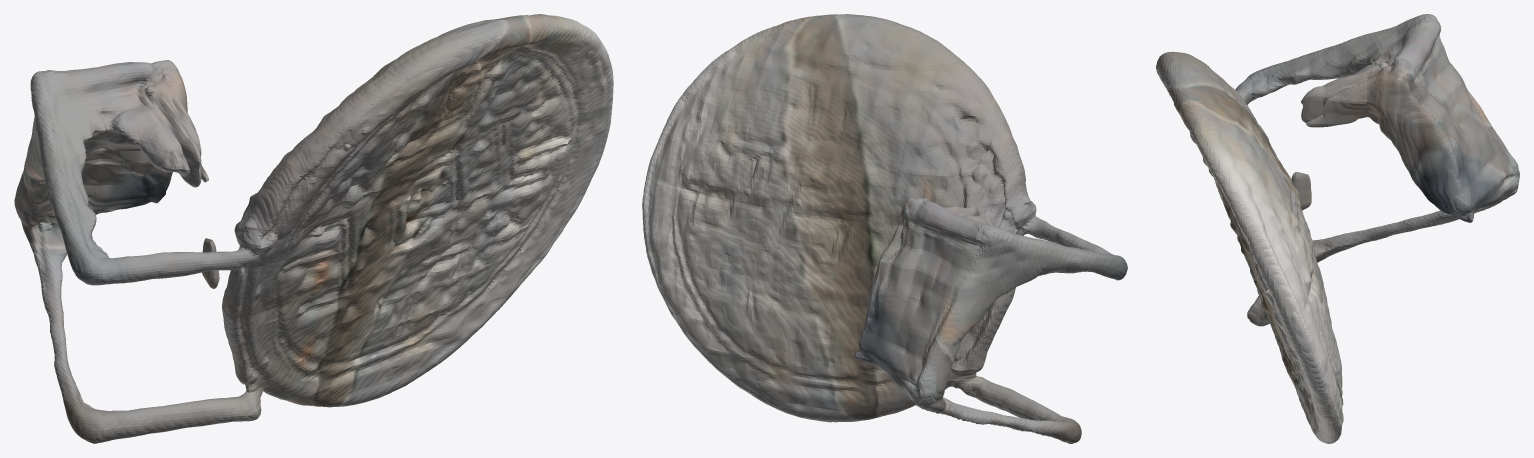
The picture shows the model from 3 angles, left to right: view 1: azimuth 30°, elevation 25°; view 2: azimuth 150°, elevation 25°; view 3: azimuth 270°, elevation 25°; orthographic projection. The views are drawn at different scales.
Visible parts, largest first — view 1: geometry_0; view 2: geometry_0; view 3: geometry_0.
Part boxes in pixels (bbox=[...]): geometry_0: bbox=[14, 14, 613, 443]; geometry_0: bbox=[642, 14, 1127, 443]; geometry_0: bbox=[1156, 14, 1519, 443].
Bounding box in the file's own units: 1.03 × 0.7497 × 0.6757.
